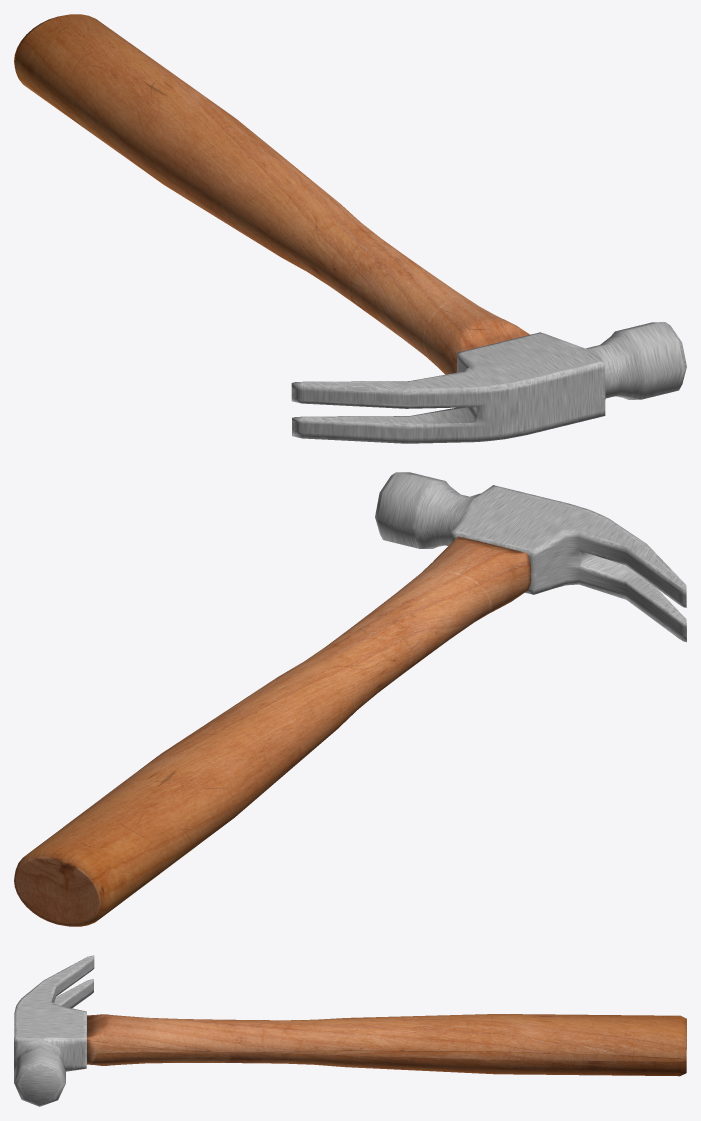
Rendered from bua.glb.
3 views of the same model, one above another, from view 1: azimuth 30°, elevation 25°; view 2: azimuth 150°, elevation 25°; view 3: azimuth 270°, elevation 25° (orthographic). The views are drawn at different scales.
Visible parts, largest first — view 1: hammer; view 2: hammer; view 3: hammer.
Boxes of the visible parts, x1=… form: hammer: x1=14, y1=14, x2=686, y2=443; hammer: x1=14, y1=472, x2=686, y2=926; hammer: x1=14, y1=955, x2=686, y2=1106.
Size of the model in its own units: 0.2931 by 0.0676 by 0.7405.
Materials: 2 (2 with a texture image).
